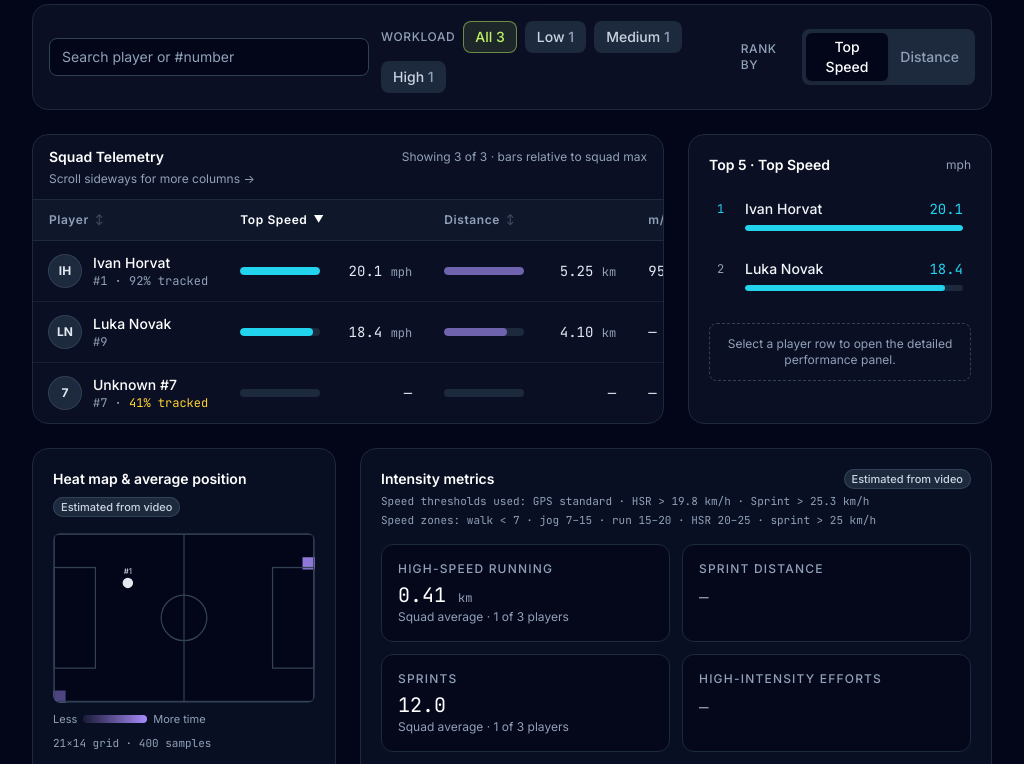
Dashboard rendering › player detail: a low-coverage warning
(page scrolled)
Step 1. Click the text "Unknown #7" → [135, 384], box [93, 376, 177, 392]
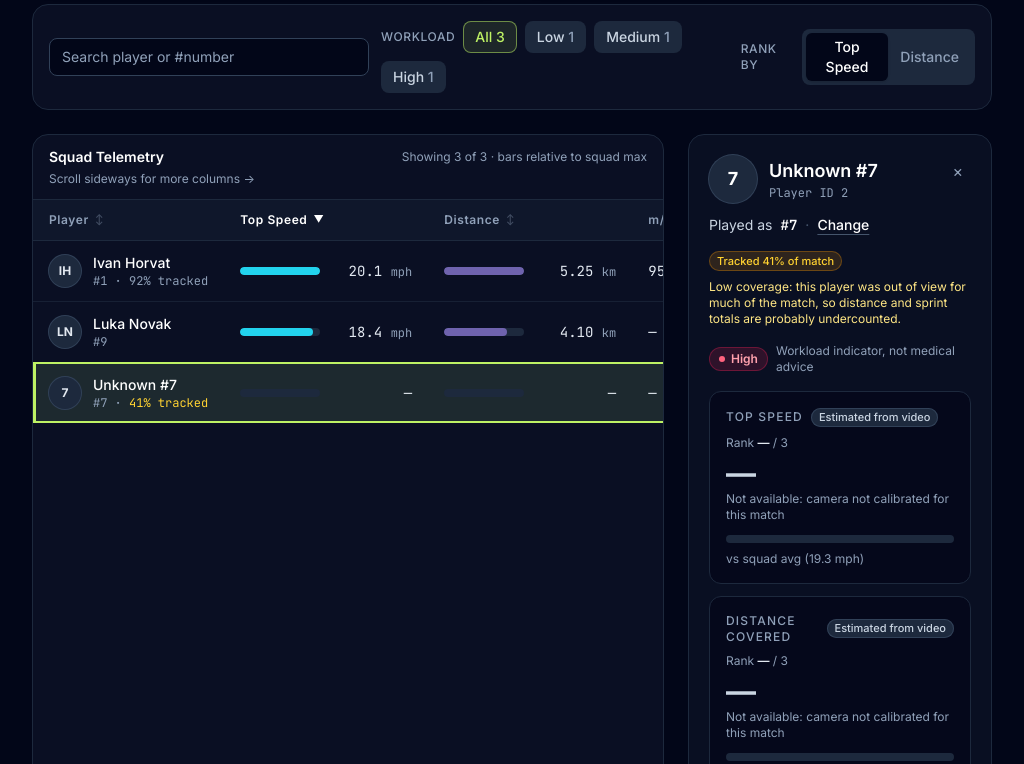
Now the text "Low coverage: this player was out of view" is shown, box [709, 279, 966, 326]
